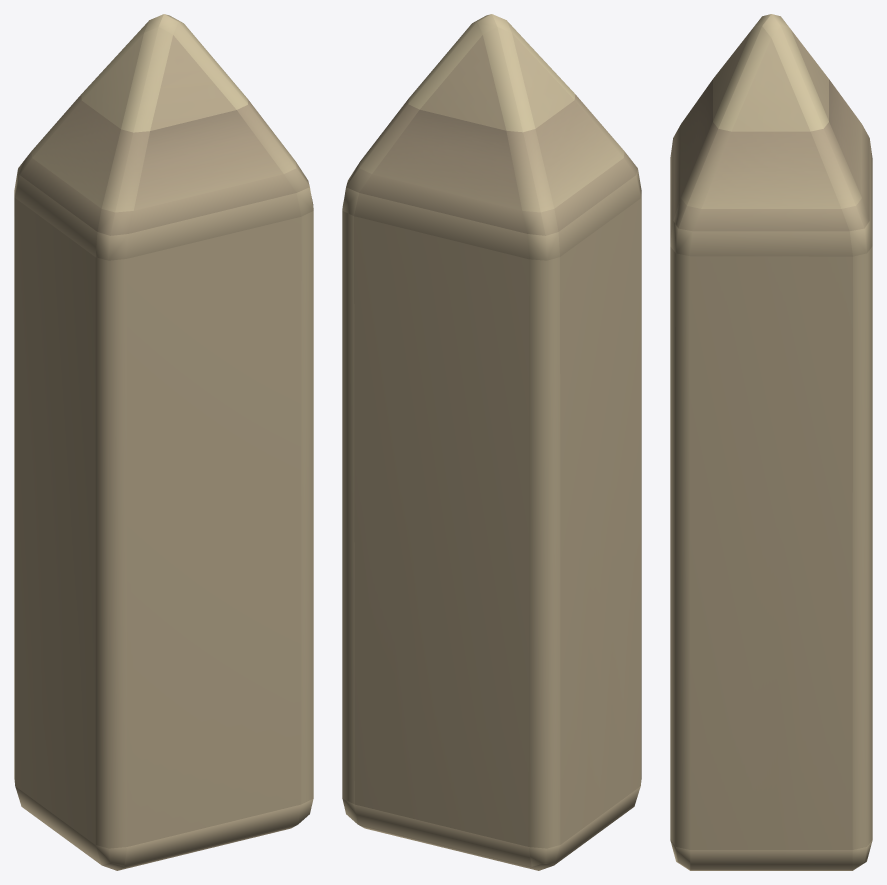
File: DryWood_Pole_Light.fbx
The picture shows the model from 3 angles, left to right: view 1: azimuth 30°, elevation 25°; view 2: azimuth 150°, elevation 25°; view 3: azimuth 270°, elevation 25°; orthographic projection.
Visible parts, largest first — view 1: DryWood_Pole_Light_LOD0; view 2: DryWood_Pole_Light_LOD0; view 3: DryWood_Pole_Light_LOD0.
Boxes of the visible parts, bbox=[...] form: DryWood_Pole_Light_LOD0: bbox=[14, 14, 313, 870]; DryWood_Pole_Light_LOD0: bbox=[342, 14, 641, 870]; DryWood_Pole_Light_LOD0: bbox=[670, 14, 872, 870].
Size of what is drawn, in the model's own units: 0.272 by 0.9647 by 0.2176.
